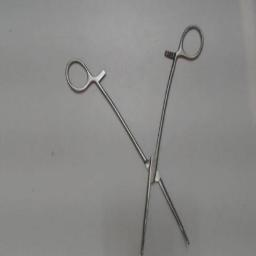Lahey Forceps: (58, 19, 206, 255)
